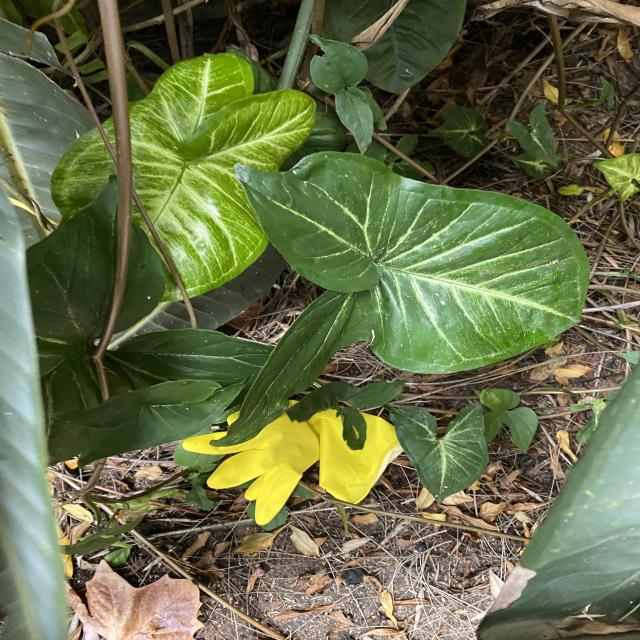glove: (183, 400, 404, 526)
